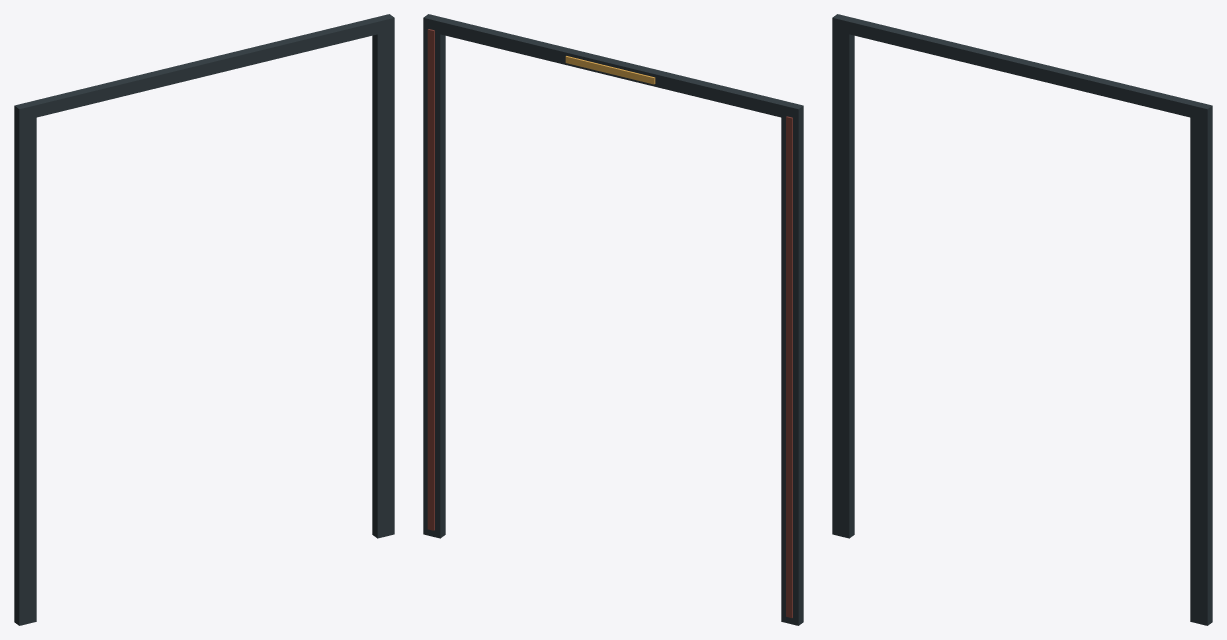
File: VIC_A09_RESTRICTED_PORTAL_Roblox.fbx
3 renders of one model, left to right at view 1: azimuth 30°, elevation 25°; view 2: azimuth 150°, elevation 25°; view 3: azimuth 330°, elevation 25°, orthographic.
Visible parts, largest first — view 1: VIC_A09_RESTRICTED_PORTAL__Charcoal; view 2: VIC_A09_RESTRICTED_PORTAL__Charcoal, VIC_A09_RESTRICTED_PORTAL__Oxblood, VIC_A09_RESTRICTED_PORTAL__Amber; view 3: VIC_A09_RESTRICTED_PORTAL__Charcoal.
Part boxes in pixels (x1,y1,x2,y2): VIC_A09_RESTRICTED_PORTAL__Charcoal: (14, 14, 394, 625); VIC_A09_RESTRICTED_PORTAL__Charcoal: (423, 14, 803, 625); VIC_A09_RESTRICTED_PORTAL__Oxblood: (427, 29, 792, 617); VIC_A09_RESTRICTED_PORTAL__Amber: (565, 56, 655, 84); VIC_A09_RESTRICTED_PORTAL__Charcoal: (832, 14, 1212, 625).
Size of the model in its own units: 11 by 14.48 by 0.315.
